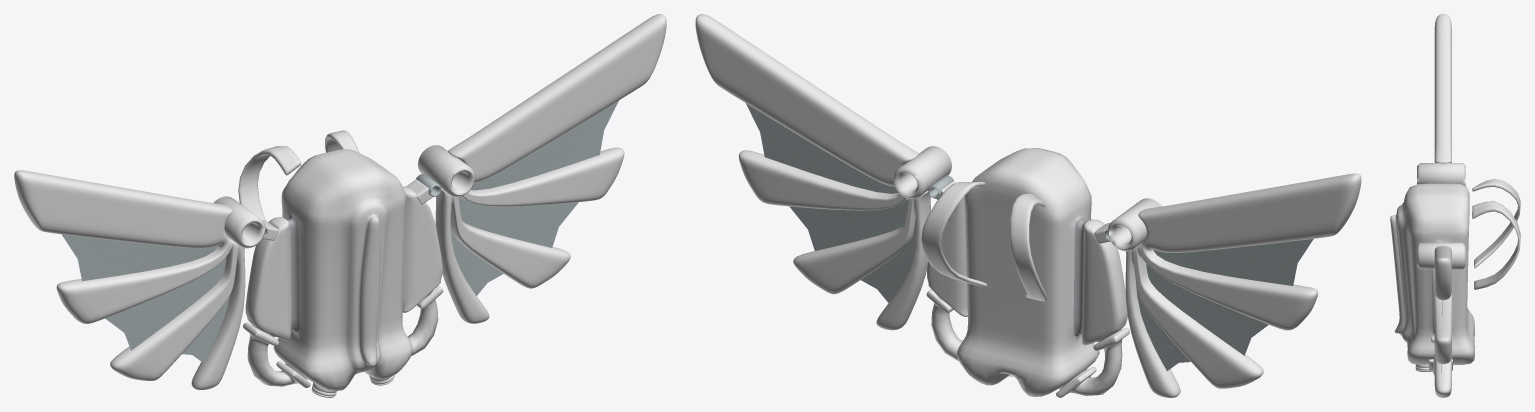
File: Jetpack.fbx
3 renders of one model, left to right at view 1: azimuth 30°, elevation 25°; view 2: azimuth 150°, elevation 25°; view 3: azimuth 270°, elevation 25°, orthographic. The views are drawn at different scales.
Parts seen in each view (by area): view 1: Cylinder.004, Jetpack 2, Plane.003; view 2: Cylinder.004, Jetpack 2, Plane.003; view 3: Jetpack 2, Cylinder.004, Plane.003.
Part boxes in pixels (x1,y1,x2,y2): Cylinder.004: (14, 14, 666, 389); Jetpack 2: (243, 149, 443, 390); Plane.003: (238, 130, 359, 220); Cylinder.004: (695, 14, 1361, 397); Jetpack 2: (926, 148, 1129, 397); Plane.003: (921, 182, 1046, 301); Jetpack 2: (1390, 183, 1474, 375); Cylinder.004: (1417, 14, 1465, 397); Plane.003: (1472, 179, 1520, 289).
Bounding box in the file's own units: 853 × 362 × 191.
